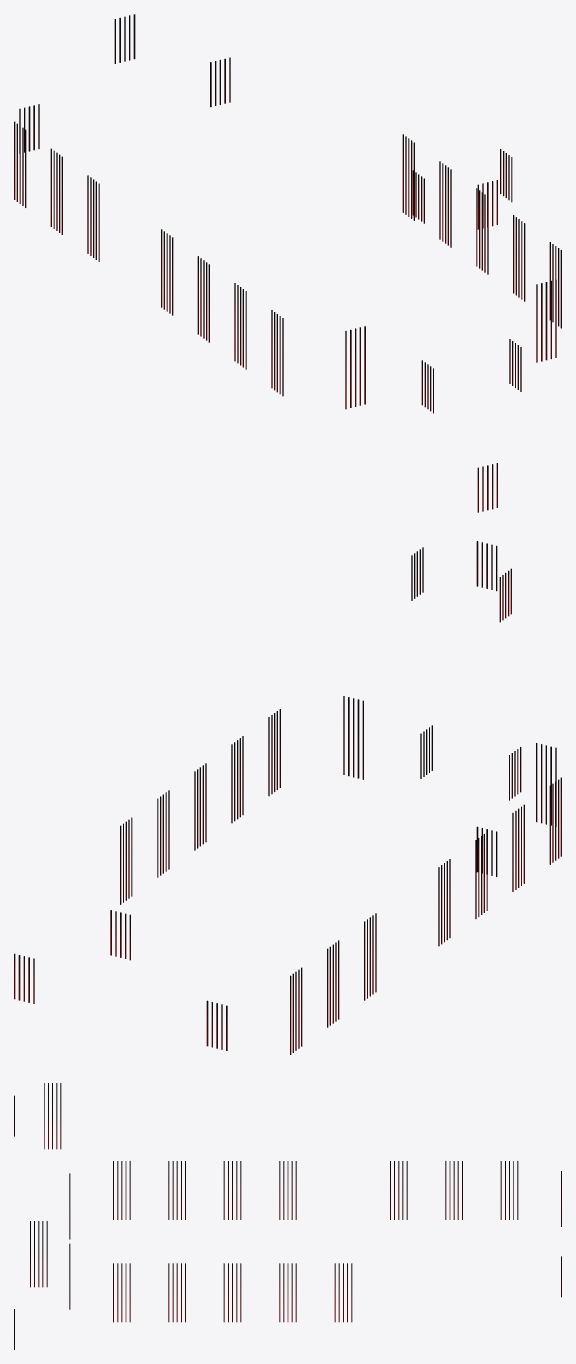
File: Window_Bars.002_export.obj
3 views of the same model, one above another, from view 1: azimuth 30°, elevation 25°; view 2: azimuth 150°, elevation 25°; view 3: azimuth 270°, elevation 25° (orthographic). The views are drawn at different scales.
Visible parts, largest first — view 1: Window_Bars.002; view 2: Window_Bars.002; view 3: Window_Bars.002.
Boxes of the visible parts, x1=… form: Window_Bars.002: x1=14, y1=14, x2=561, y2=512; Window_Bars.002: x1=14, y1=541, x2=561, y2=1054; Window_Bars.002: x1=14, y1=1083, x2=561, y2=1349.
Size of the model in its own units: 17.58 by 19.68 by 39.58.
